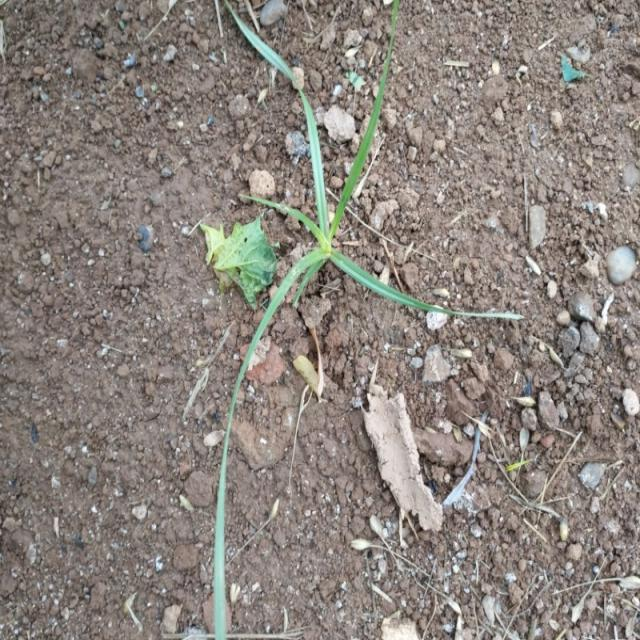sedge: (205, 26, 468, 401)
